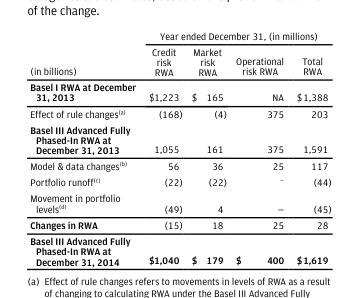table: (29, 28, 330, 266)
table column: (29, 28, 141, 266), (230, 28, 289, 266), (141, 28, 186, 266), (186, 28, 230, 266), (289, 28, 330, 266)
table column header: (29, 28, 330, 79)
table row: (29, 43, 330, 79), (29, 121, 330, 157), (29, 232, 330, 266), (29, 189, 330, 216), (29, 79, 330, 104), (29, 104, 330, 121), (29, 157, 330, 173), (29, 173, 330, 189), (29, 216, 330, 232), (29, 28, 330, 43)
table spanning cell: (29, 28, 141, 79), (141, 28, 330, 43)
